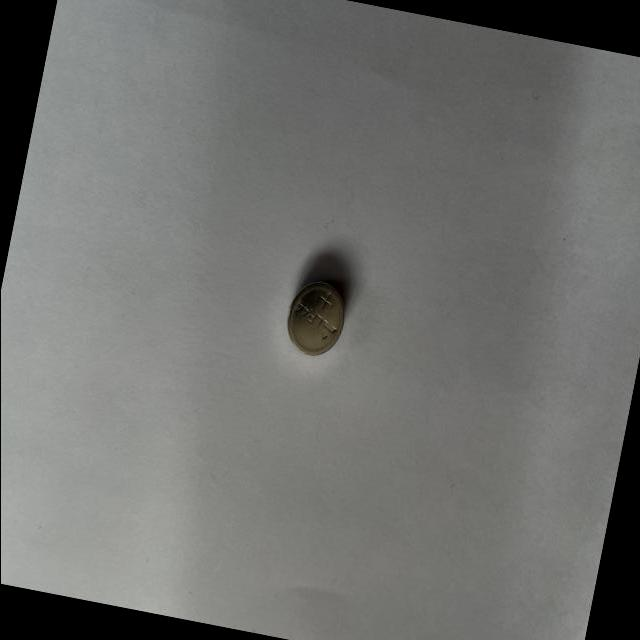COIN: (278, 274, 352, 360)
